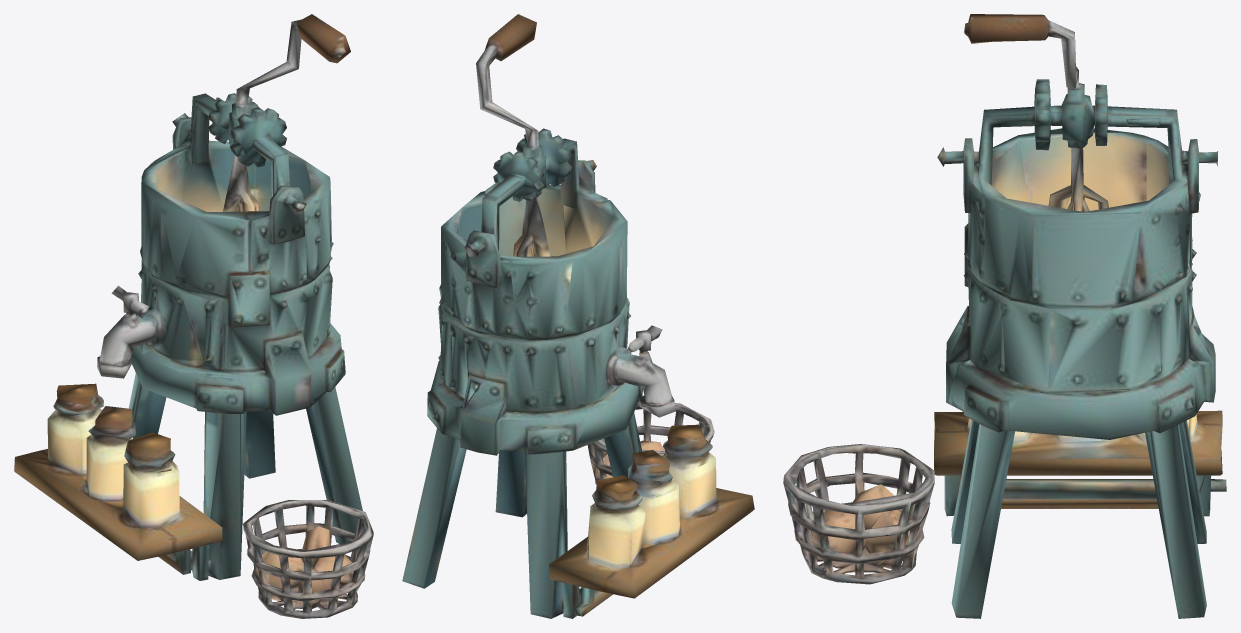
The model's file is jiaobanji-2.glb.
The picture shows the model from 3 angles, left to right: view 1: azimuth 30°, elevation 25°; view 2: azimuth 150°, elevation 25°; view 3: azimuth 270°, elevation 25°; orthographic projection. The views are drawn at different scales.
Visible parts, largest first — view 1: node_0; view 2: node_0; view 3: node_0.
Part boxes in pixels (x1,y1,x2,y2): node_0: [14, 14, 373, 618]; node_0: [402, 14, 754, 618]; node_0: [783, 14, 1226, 618].
Bounding box in the file's own units: 0.4936 × 0.9508 × 0.6463.
1 material, 1 textured.
